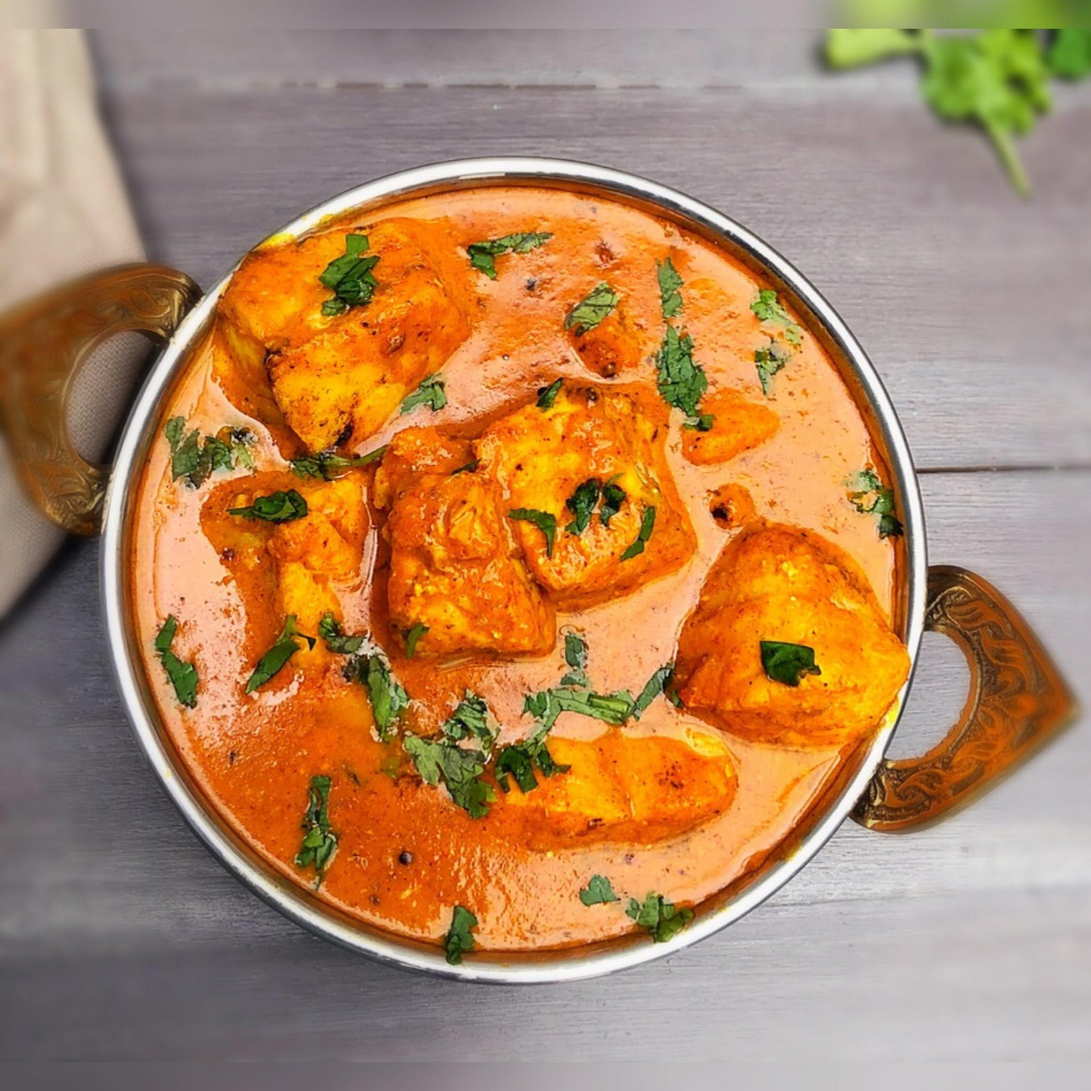FishCurry: (131, 183, 912, 956)
